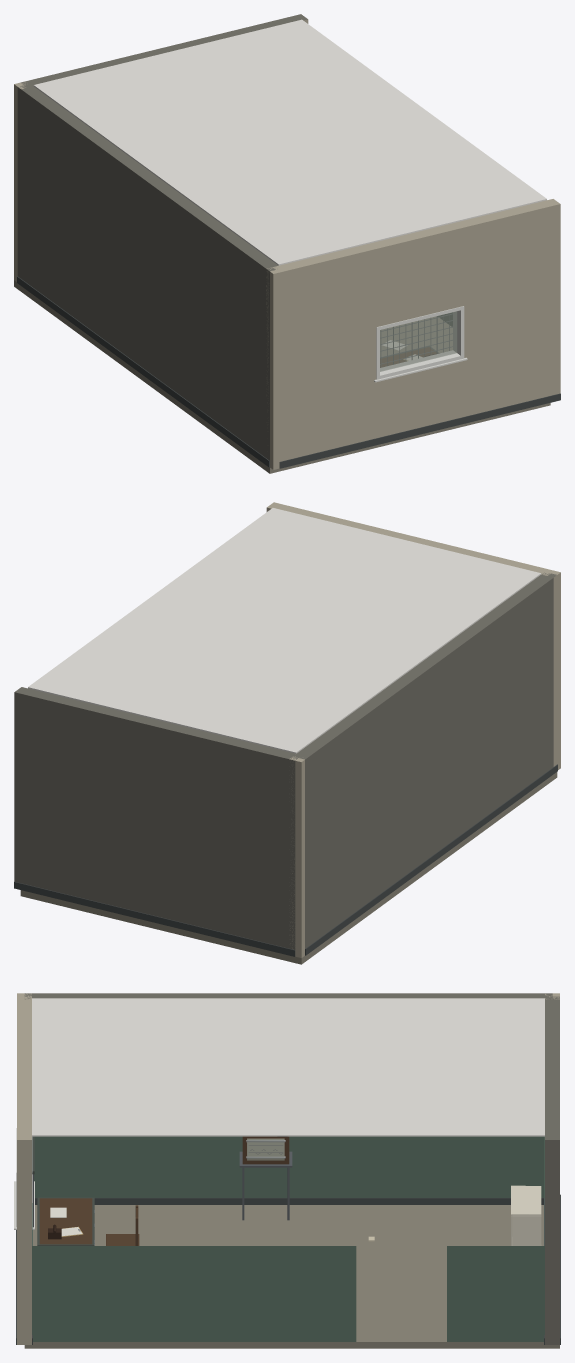
The model's file is ENV_W0_ObservationRoom.glb.
3 views of the same model, one above another, from view 1: azimuth 30°, elevation 25°; view 2: azimuth 150°, elevation 25°; view 3: azimuth 270°, elevation 25° (orthographic). The views are drawn at different scales.
Parts seen in each view (by area): view 1: ENV_W0_ObservationRoom_Architecture, ENV_W0_ObservationRoom_Ceiling, ENV_W0_ObservationRoom_Posts, OM_WindowMesh; view 2: ENV_W0_ObservationRoom_Architecture, ENV_W0_ObservationRoom_Ceiling, ENV_W0_ObservationRoom_Posts; view 3: ENV_W0_ObservationRoom_Ceiling, ENV_W0_ObservationRoom_Dado, ENV_W0_ObservationRoom_Architecture, PROP_Desk_Steel_Tanker_Mesh, PROP_Recorder_Chart_Strip_Mesh, PROP_Cabinet_Instrument_Glass_Mesh, PROP_Chair_Wood_Historic_Mesh.
Part boxes in pixels (x1,y1,x2,y2): ENV_W0_ObservationRoom_Architecture: (14,14,560,473); ENV_W0_ObservationRoom_Ceiling: (33,19,546,265); ENV_W0_ObservationRoom_Posts: (14,82,285,469); OM_WindowMesh: (380,313,452,365); ENV_W0_ObservationRoom_Architecture: (14,502,557,964); ENV_W0_ObservationRoom_Ceiling: (28,508,541,753); ENV_W0_ObservationRoom_Posts: (289,569,560,957); ENV_W0_ObservationRoom_Ceiling: (32,998,544,1136); ENV_W0_ObservationRoom_Dado: (32,1136,544,1341); ENV_W0_ObservationRoom_Architecture: (14,993,560,1348); PROP_Desk_Steel_Tanker_Mesh: (37,1197,94,1245); PROP_Recorder_Chart_Strip_Mesh: (239,1136,292,1220); PROP_Cabinet_Instrument_Glass_Mesh: (511,1185,541,1245); PROP_Chair_Wood_Historic_Mesh: (106,1205,139,1245).
Size of what is drawn, in the model's own units: 4.61 by 3.12 by 7.25.
